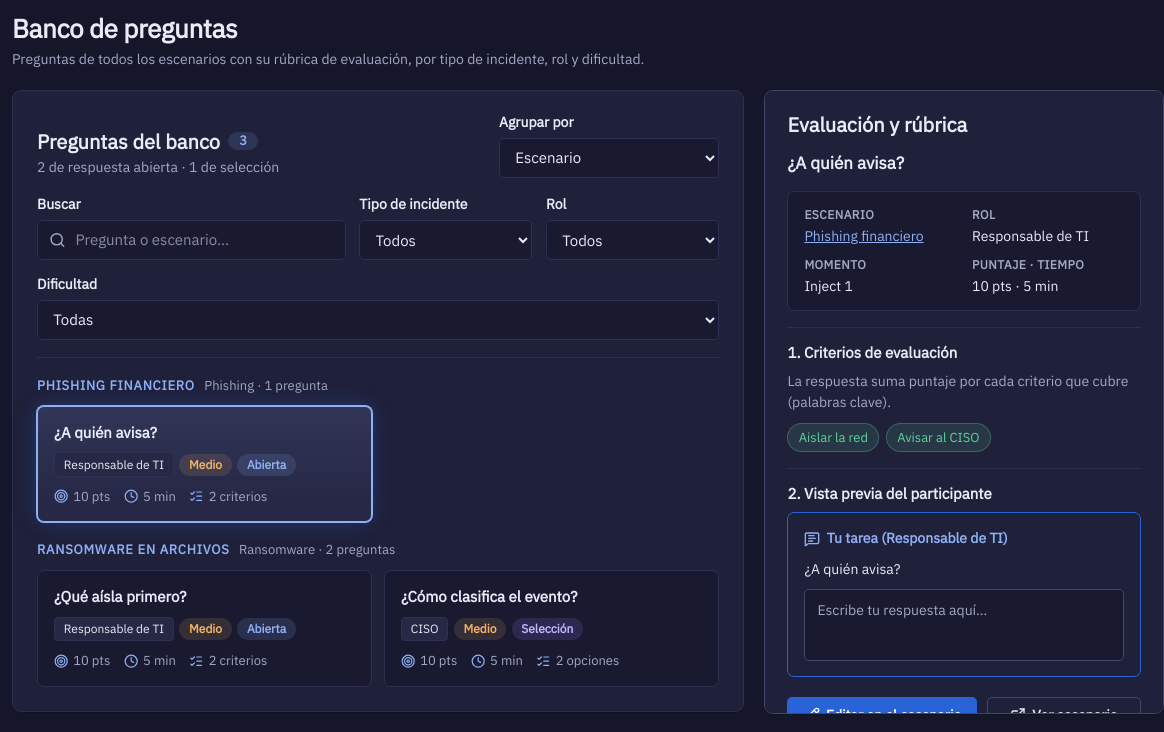
Scenario: BancoPreguntasPage › agrupa por escenario y muestra la rúbrica de la primera pregunta de la lista
Click the button "¿Qué aísla primero?" at (204, 628), box [37, 570, 372, 687]
(page scrolled)
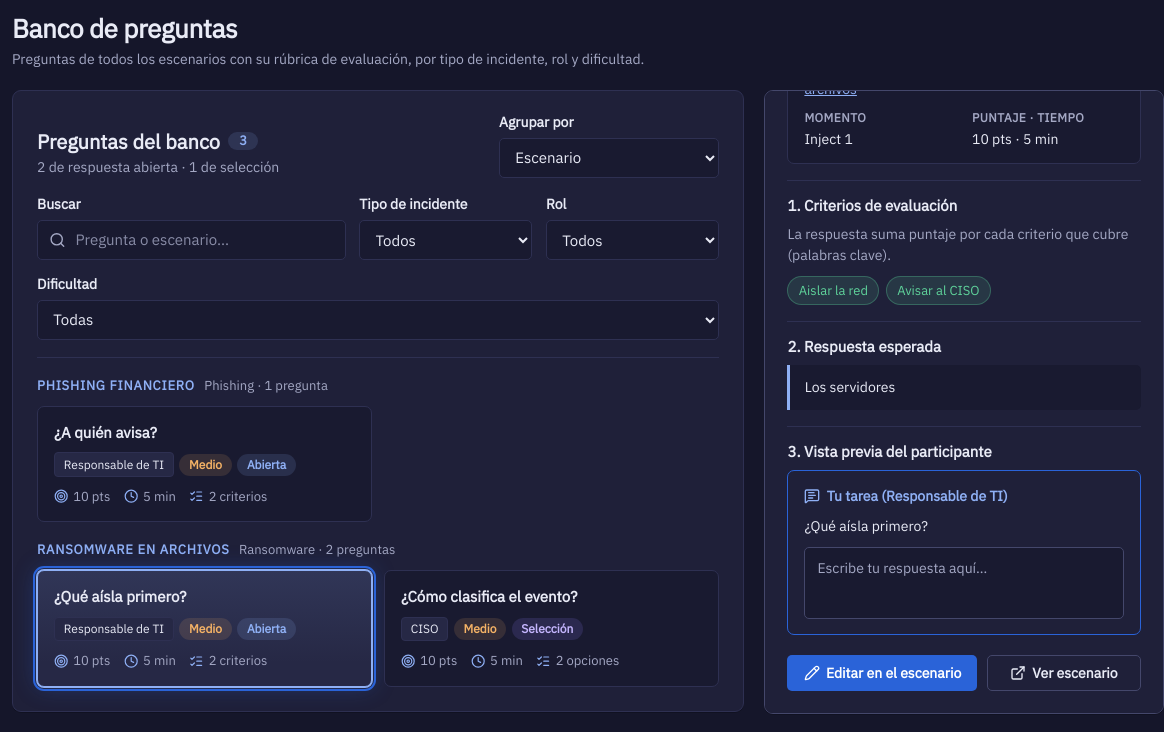
expect the list item "Aislar la red" is shown: met, box [787, 276, 879, 305]
expect the text "Los servidores" is shown: met, box [787, 365, 1141, 410]
